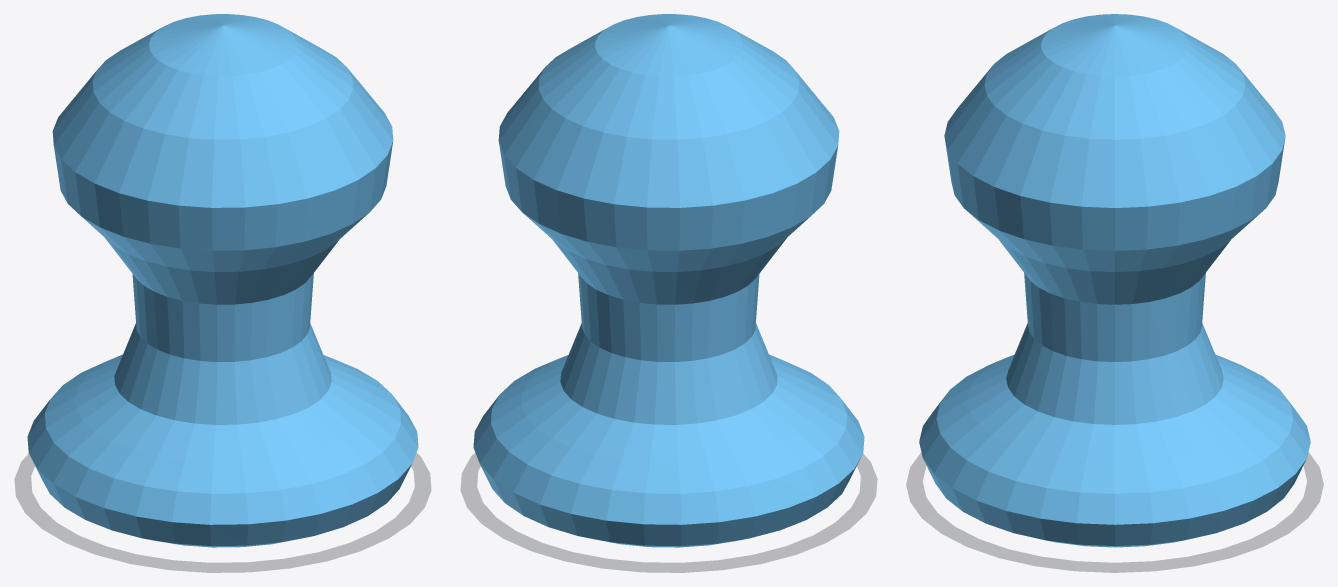
The model's file is player_pawn_lightblue.obj.
The picture shows the model from 3 angles, left to right: view 1: azimuth 30°, elevation 25°; view 2: azimuth 150°, elevation 25°; view 3: azimuth 270°, elevation 25°; orthographic projection.
Parts seen in each view (by area): view 1: Body, SoftShadow; view 2: Body, SoftShadow; view 3: Body, SoftShadow.
Boxes of the visible parts, bbox=[...] form: Body: bbox=[27, 14, 418, 547]; SoftShadow: bbox=[14, 453, 431, 572]; Body: bbox=[473, 14, 864, 547]; SoftShadow: bbox=[460, 453, 877, 572]; Body: bbox=[919, 14, 1310, 547]; SoftShadow: bbox=[906, 452, 1323, 572].
Size of the model in its own units: 0.48 by 0.582 by 0.48.
